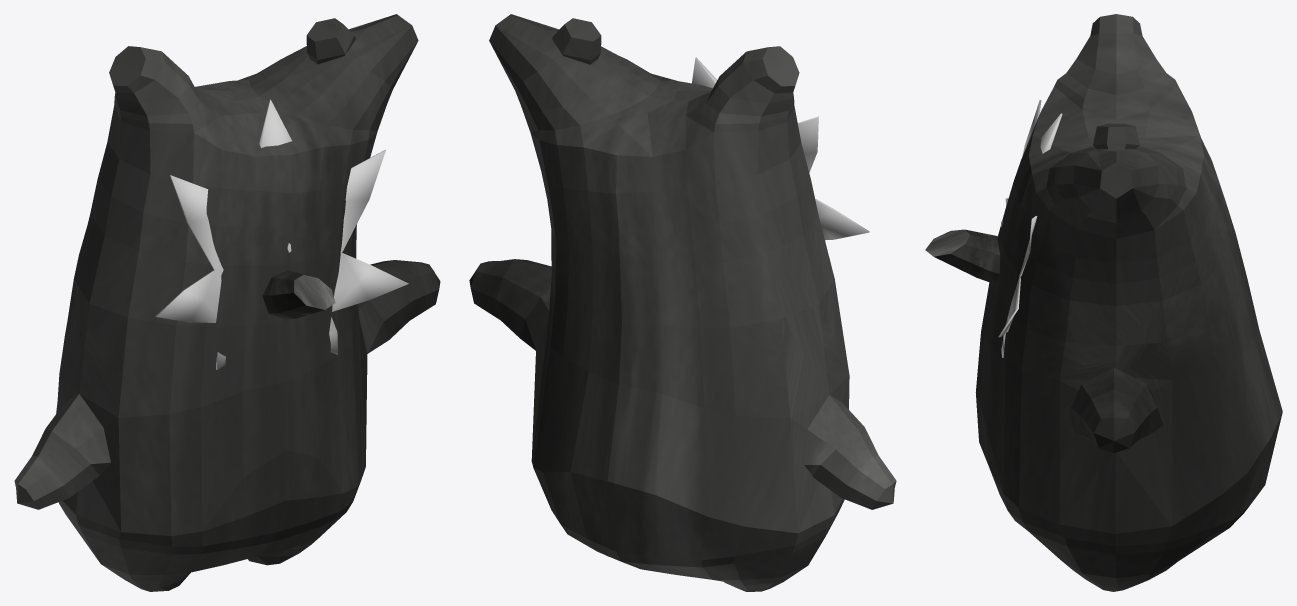
Rendered from frame_0071.obj.
The picture shows the model from 3 angles, left to right: view 1: azimuth 30°, elevation 25°; view 2: azimuth 150°, elevation 25°; view 3: azimuth 270°, elevation 25°; orthographic projection. The views are drawn at different scales.
Visible parts, largest first — view 1: korok, leaf.003_柱体.013, nose.003_柱体.011; view 2: korok, leaf.003_柱体.013; view 3: korok, nose.003_柱体.011, leaf.003_柱体.013.
Part boxes in pixels (x1,y1,x2,y2): korok: [14, 14, 440, 591]; leaf.003_柱体.013: [155, 99, 408, 369]; nose.003_柱体.011: [262, 270, 335, 319]; korok: [469, 14, 896, 591]; leaf.003_柱体.013: [692, 57, 869, 240]; korok: [975, 14, 1282, 591]; nose.003_柱体.011: [925, 229, 1000, 283]; leaf.003_柱体.013: [998, 100, 1062, 357].
Bounding box in the file's own units: 1.75 × 2.16 × 1.36.
